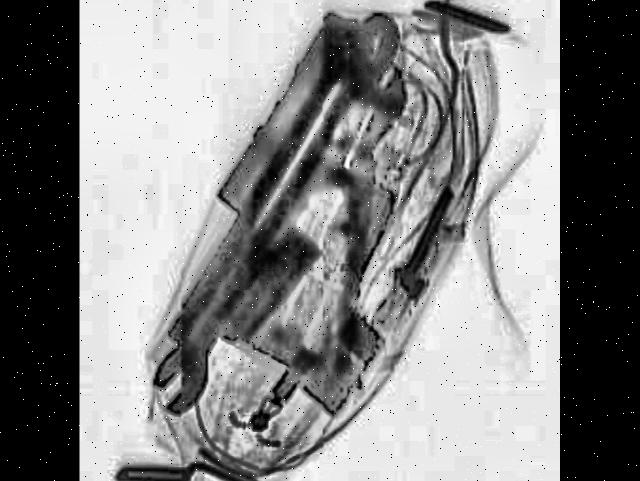Wrench: (150, 0, 416, 431)
